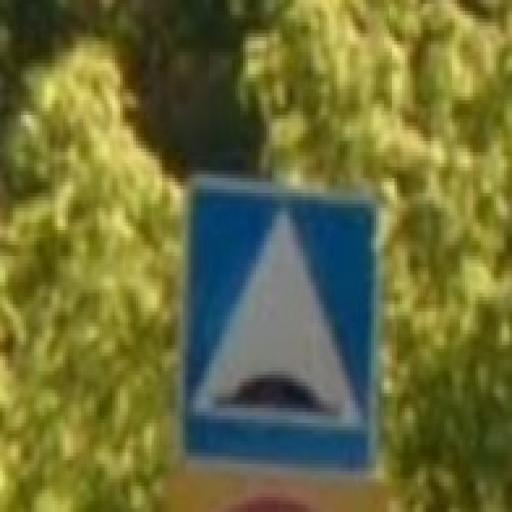traffic_sign: (181, 176, 385, 484)
